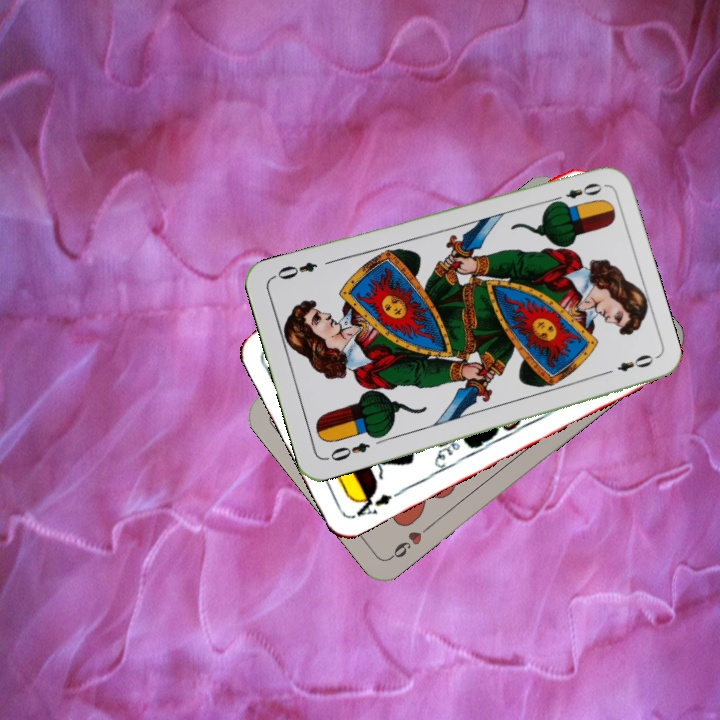EA: (349, 485, 405, 520)
EO: (548, 179, 605, 207), (322, 438, 373, 464)
H9: (386, 519, 435, 562)
